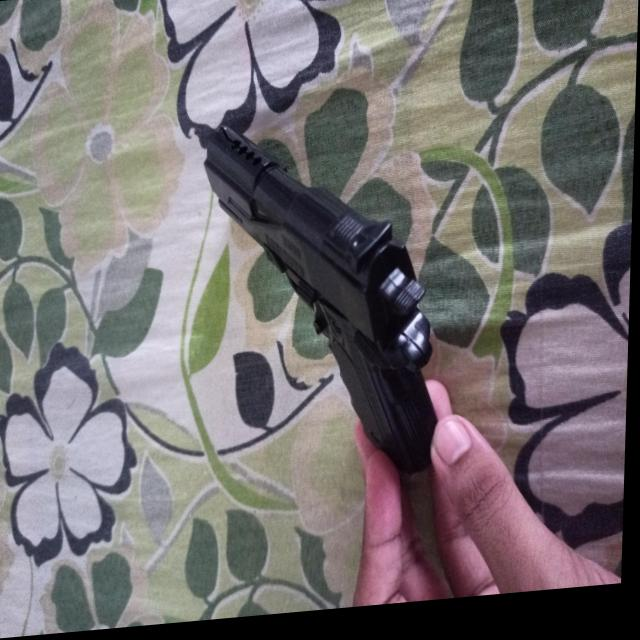handgun: (201, 112, 450, 489)
